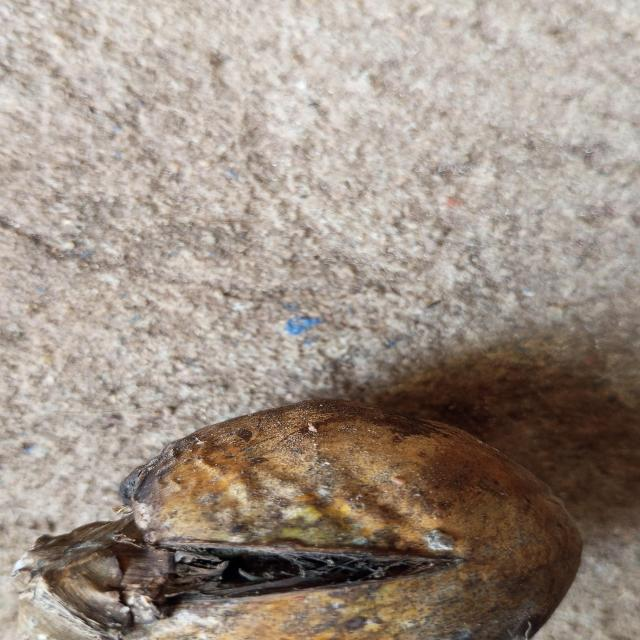damaged: (14, 400, 581, 640)
